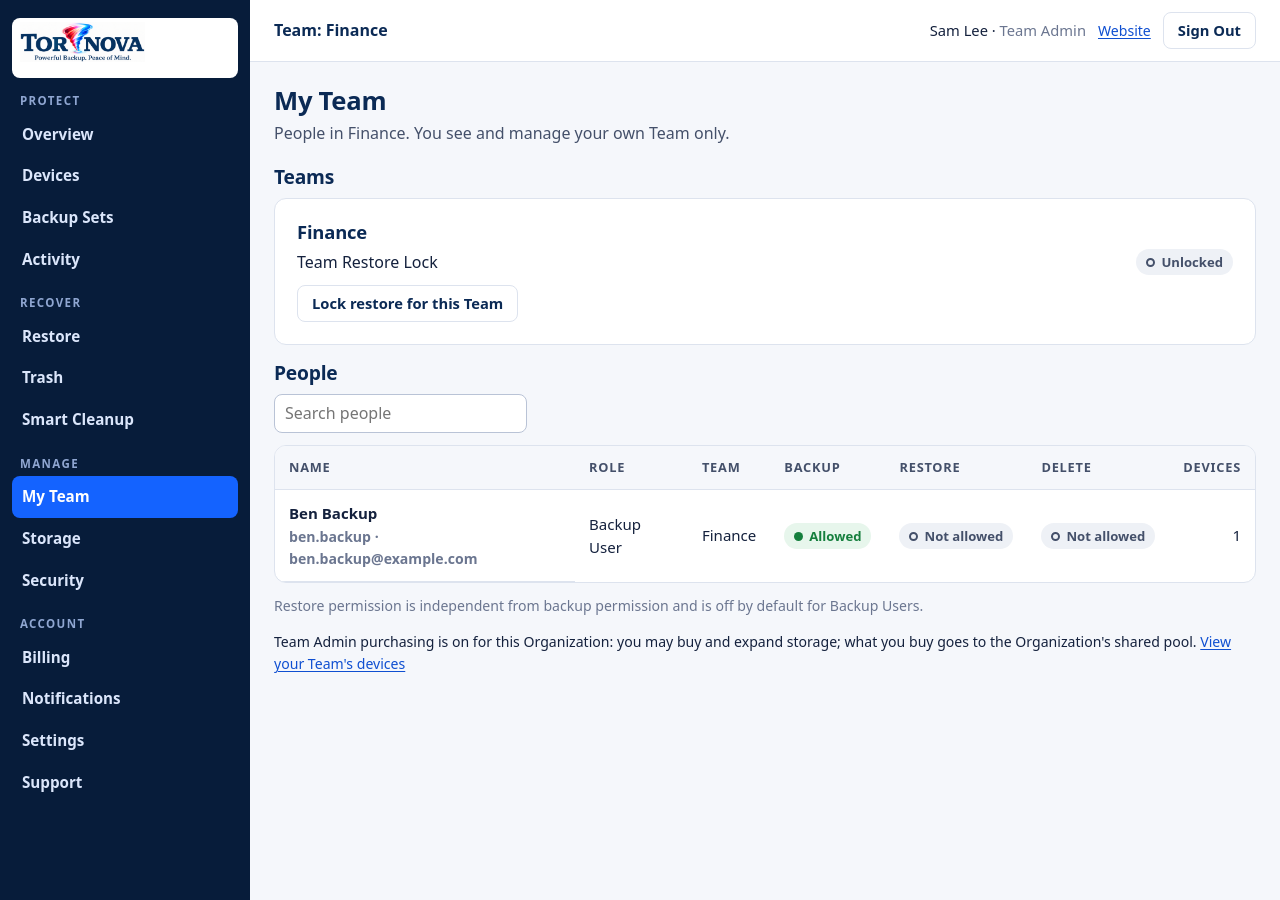
Test case: capability refresh and fail-closed behaviour › a 403 refreshes /dashboard/me so a stale page drops the control the person no longer has
Click the button "Lock restore for this Team": {"x": 408, "y": 304} [297,285,518,322]
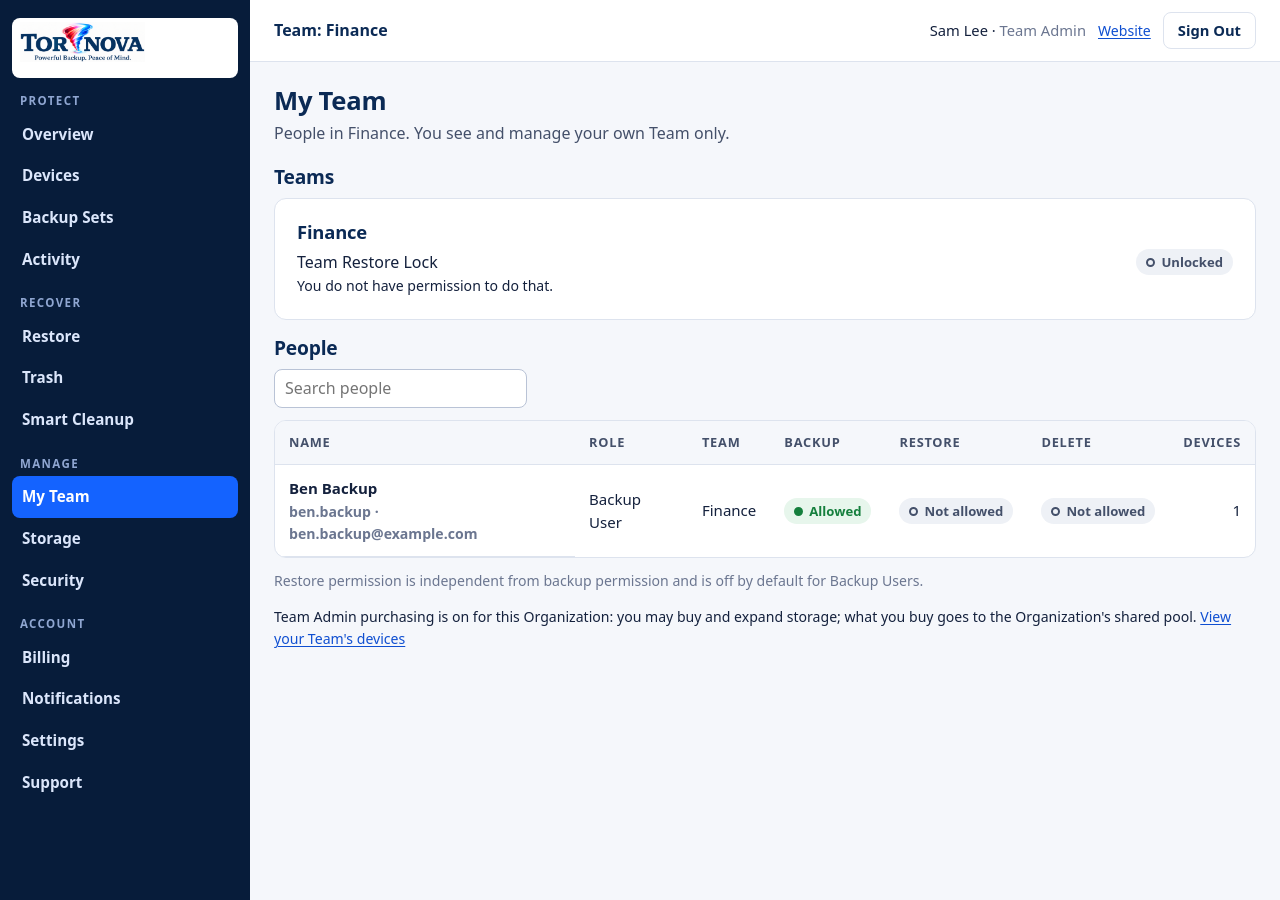
Result: the button "restore for this Team" is gone
